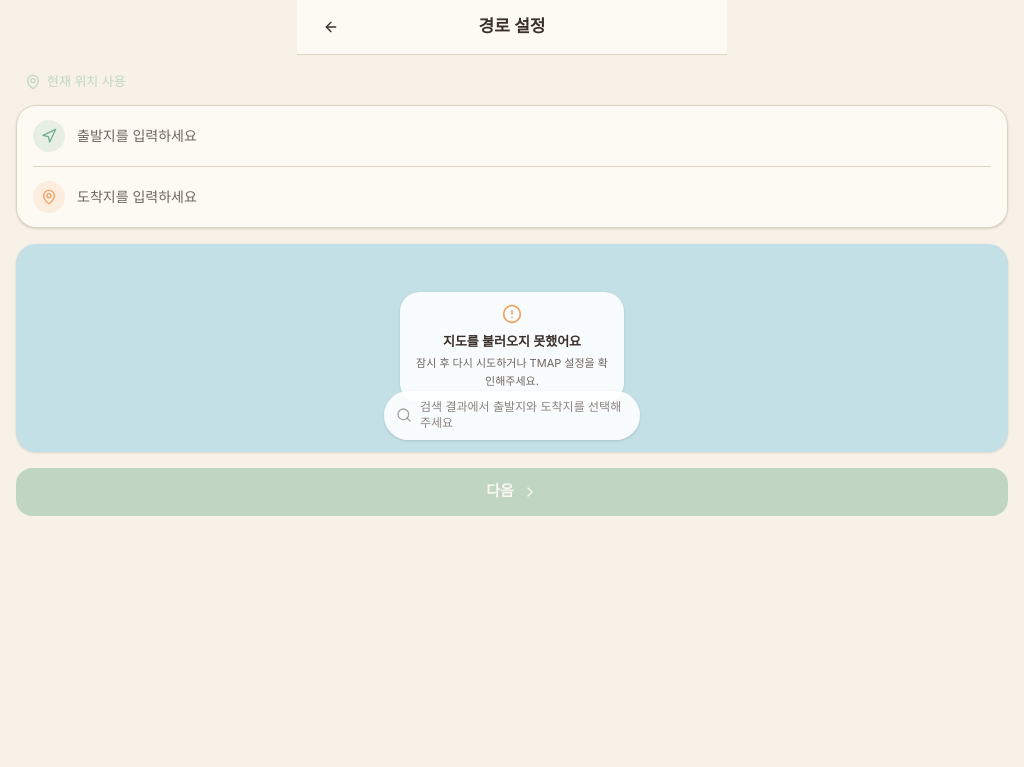
MapSetupScreen location search › keeps search results inside a fixed flex viewport
The image size is (1024, 767).
Type "서울" into the search field labelled "출발지" at (534,136), box [77, 125, 991, 146]
(page scrolled)
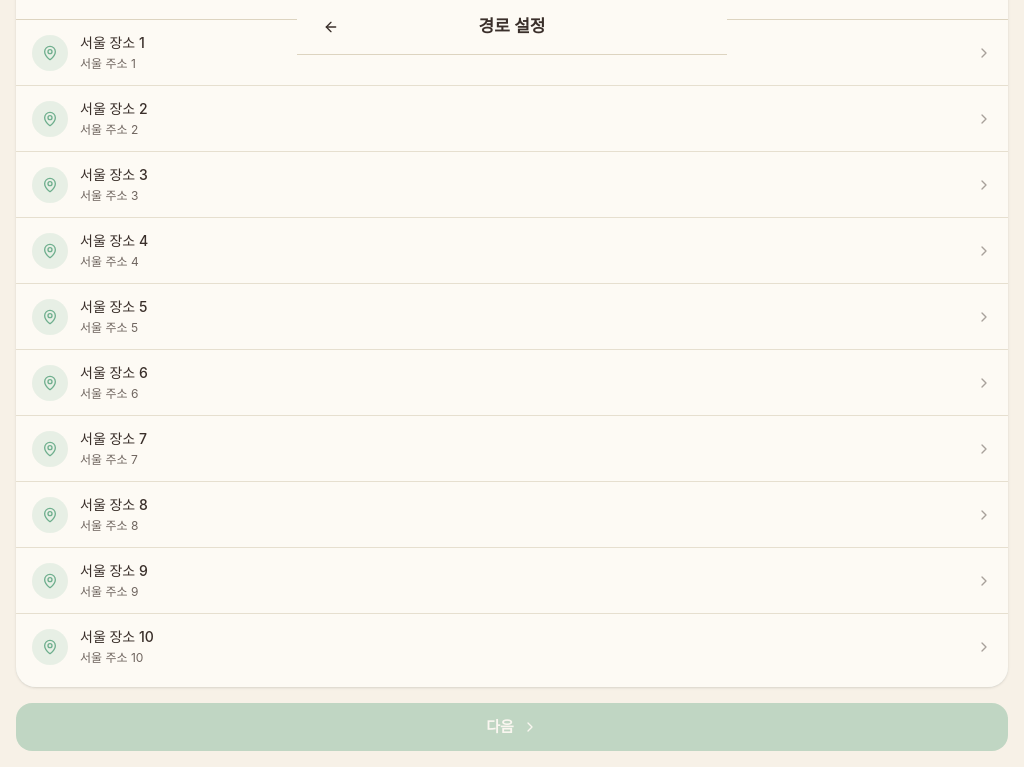
Result: the button "서울 장소 10 서울 주소 10" is shown at [16, 614, 1008, 679]
